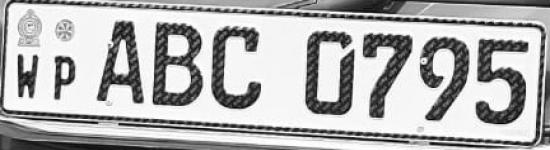0: (302, 24, 356, 122)
5: (470, 35, 532, 129)
7: (358, 28, 415, 126)
9: (417, 31, 471, 127)
A: (89, 17, 147, 111)
B: (147, 17, 207, 112)
C: (206, 23, 273, 118)
P: (51, 54, 80, 104)
W: (11, 50, 43, 100)
